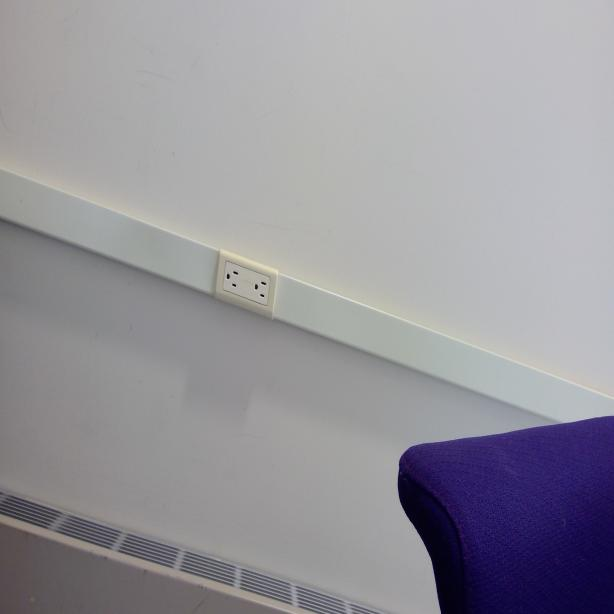typeb: (222, 259, 244, 298), (251, 268, 271, 302)
